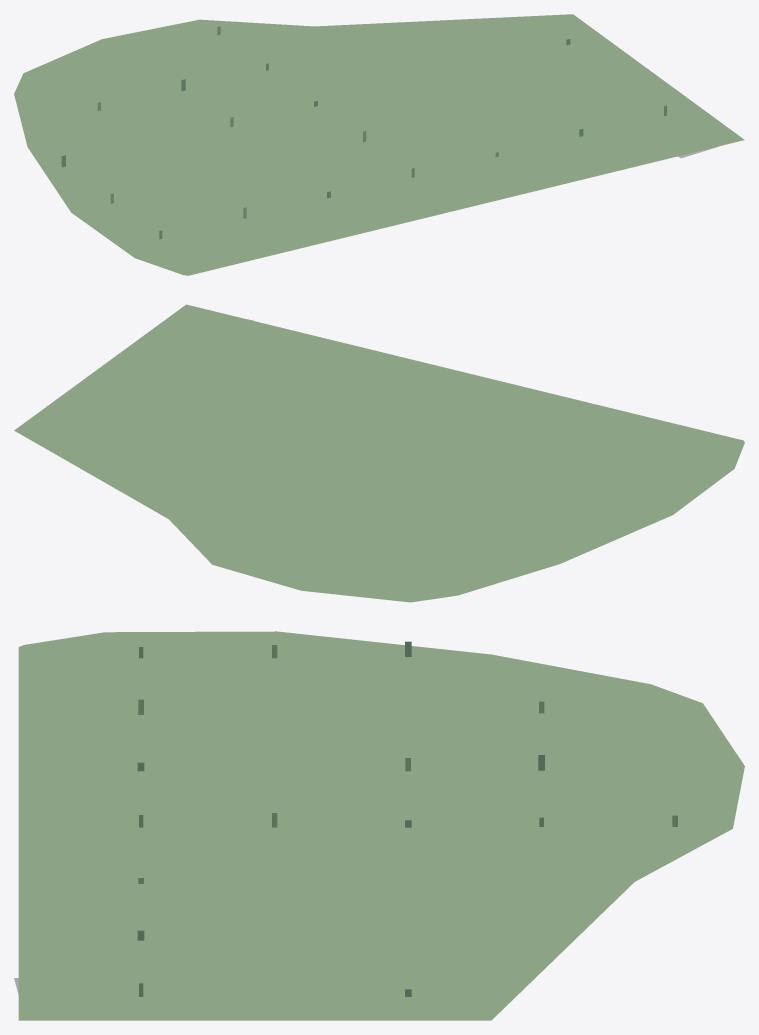
The picture shows the model from 3 angles, top to bottom: view 1: azimuth 30°, elevation 25°; view 2: azimuth 150°, elevation 25°; view 3: azimuth 270°, elevation 25°; orthographic projection. The views are drawn at different scales.
Bounding box in the file's own units: 414 × 9.23 × 328.
